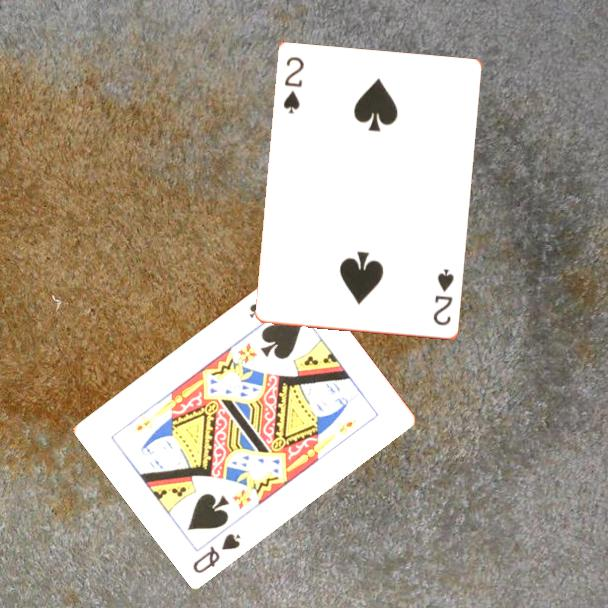s02: (280, 53, 307, 117), (430, 266, 457, 329)
s12: (189, 529, 244, 576)
